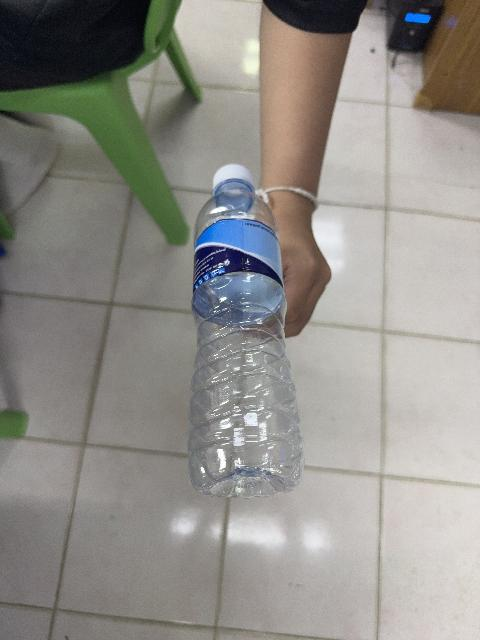bottle: (188, 165, 302, 497)
